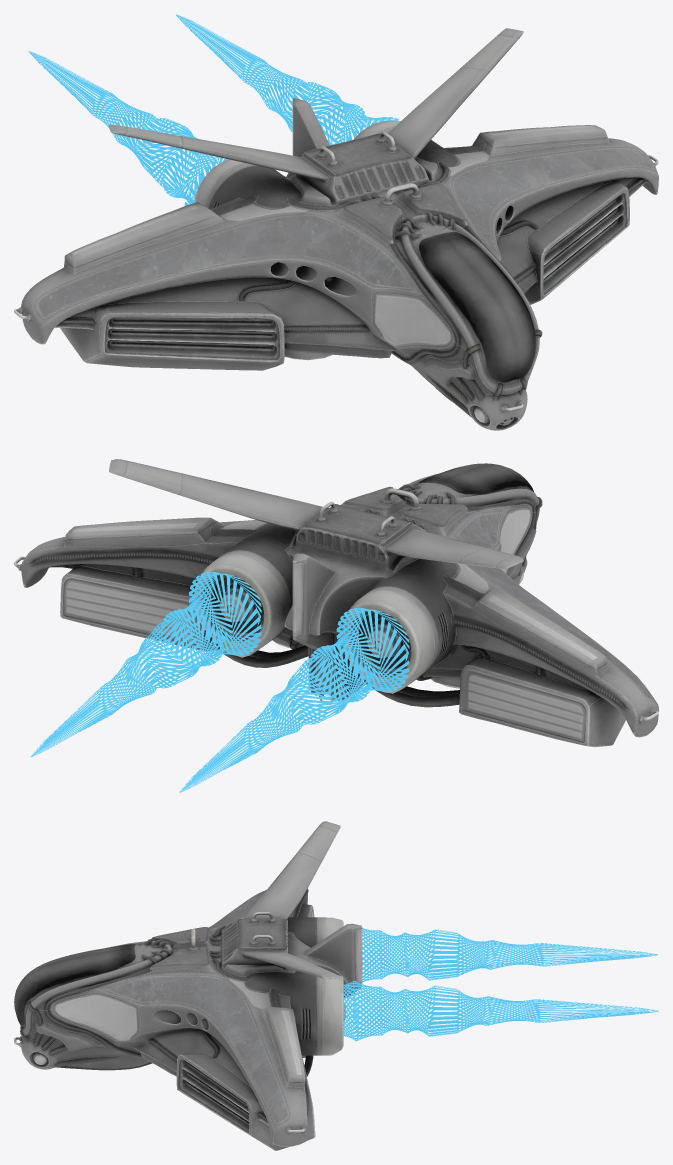
The model's file is ship-1k.glb.
3 views of the same model, one above another, from view 1: azimuth 30°, elevation 25°; view 2: azimuth 150°, elevation 25°; view 3: azimuth 270°, elevation 25° (orthographic). The views are drawn at different scales.
Visible parts, largest first — view 1: RetopoGroup2, FlameL, FlameR; view 2: RetopoGroup2, FlameL, FlameR; view 3: RetopoGroup2, FlameR, FlameL.
Boxes of the visible parts, x1=… form: RetopoGroup2: x1=14, y1=28, x2=658, y2=430; FlameL: x1=28, y1=51, x2=227, y2=205; FlameR: x1=176, y1=14, x2=400, y2=145; RetopoGroup2: x1=14, y1=459, x2=658, y2=747; FlameL: x1=179, y1=608, x2=409, y2=792; FlameR: x1=30, y1=571, x2=261, y2=757; RetopoGroup2: x1=14, y1=821, x2=362, y2=1150; FlameR: x1=343, y1=980, x2=658, y2=1041; FlameL: x1=362, y1=928, x2=657, y2=982.
Bounding box in the file's own units: 9.55 × 3.1 × 10.7.
2 materials, 1 textured.
